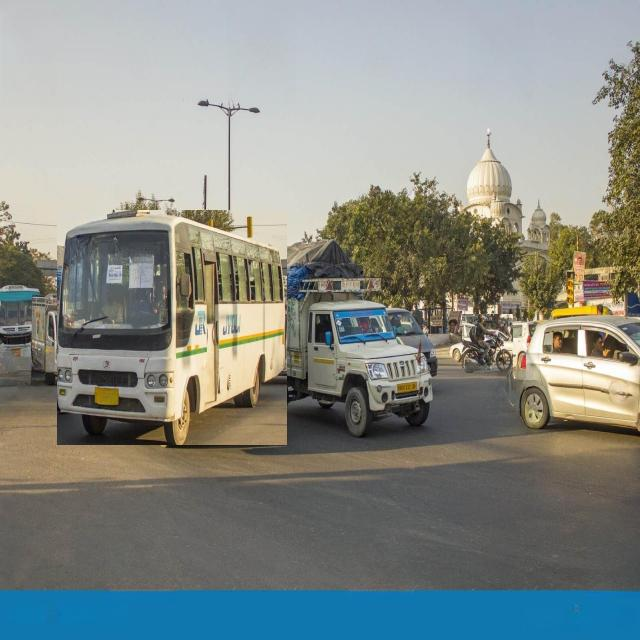bus: (57, 211, 286, 445), (0, 285, 40, 359)
car: (514, 315, 640, 430)
motorcycle: (462, 314, 512, 371)
truck: (279, 240, 432, 436)
